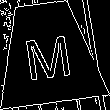M_N: (21, 25, 75, 81)
